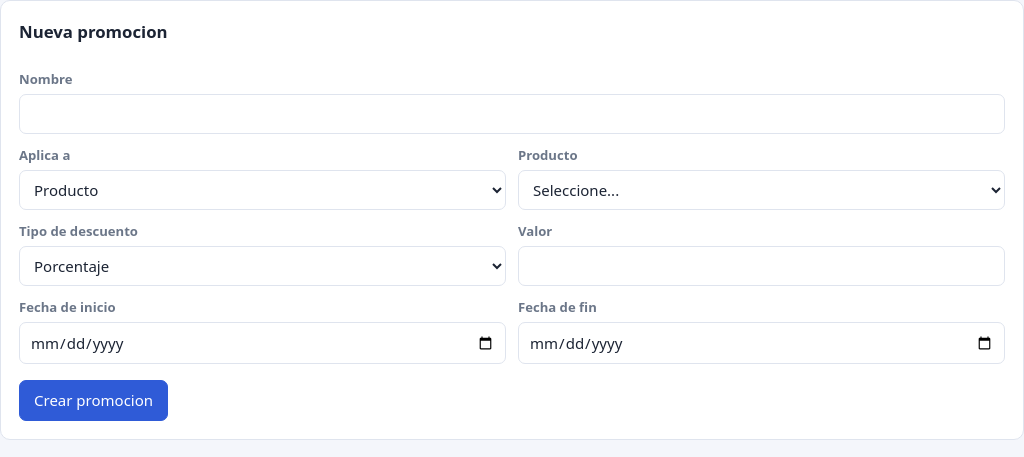
Scenario: PromotionForm › cambia el selector al elegir categoria como objetivo
This screenshot has width=1024, height=457.
Select "Categoria" in the dropdown labelled "Aplica a": (262, 190) [19,170,506,210]
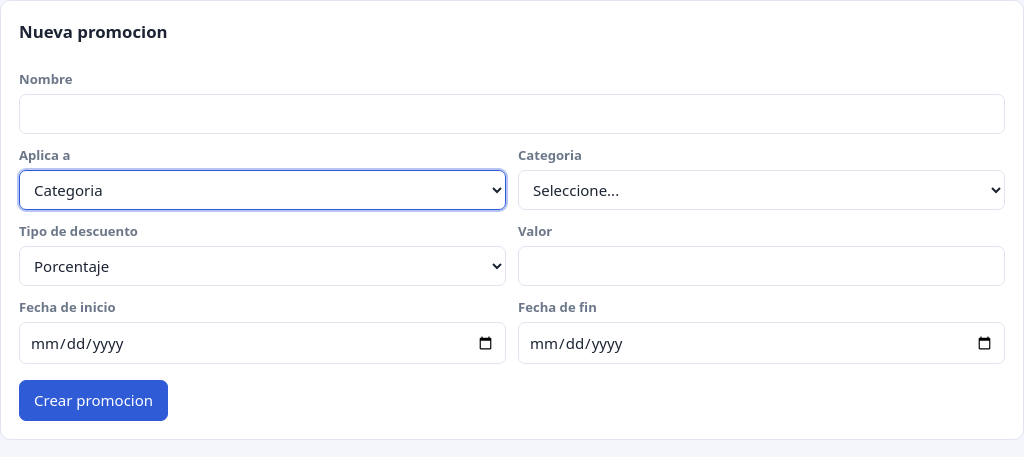
Expected: the dropdown labelled "Categoria" is shown, [518,170,1005,210]
Now the text labelled "Producto" is gone
